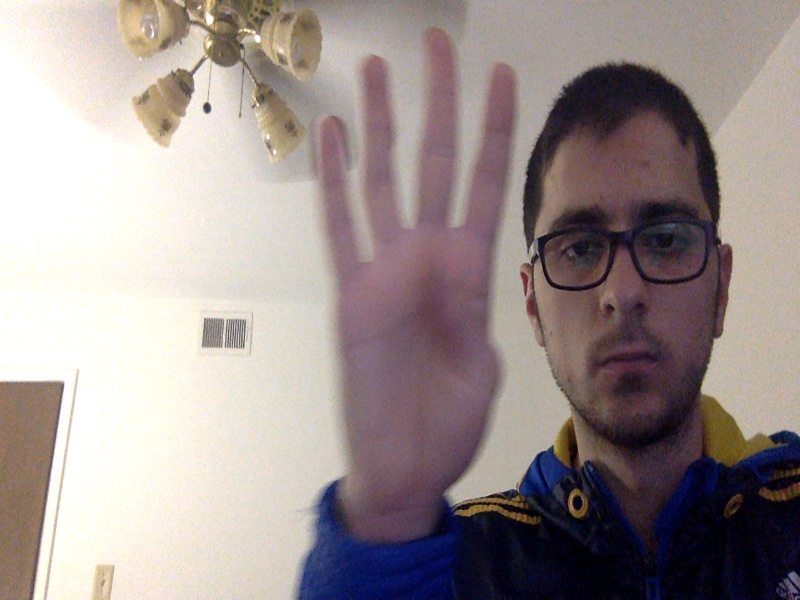4-hand: (314, 27, 519, 508)
